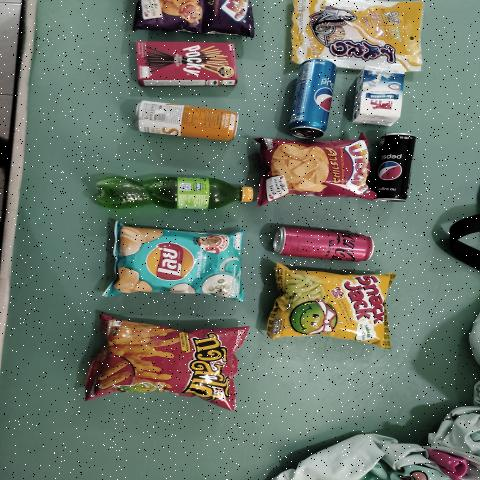coke_red: (268, 222, 379, 265)
fanta_green: (98, 169, 256, 216)
lay_blue: (127, 236, 233, 286)
party_red: (266, 142, 364, 190)
pepsi_blue: (296, 61, 332, 131)
pokki: (138, 44, 236, 82)
singha_yellow: (136, 99, 240, 138)
snack_jack: (277, 272, 385, 340)
taro_yellow: (295, 0, 419, 58)
thai_denmark: (348, 73, 408, 118)
twisco: (101, 313, 247, 417)
